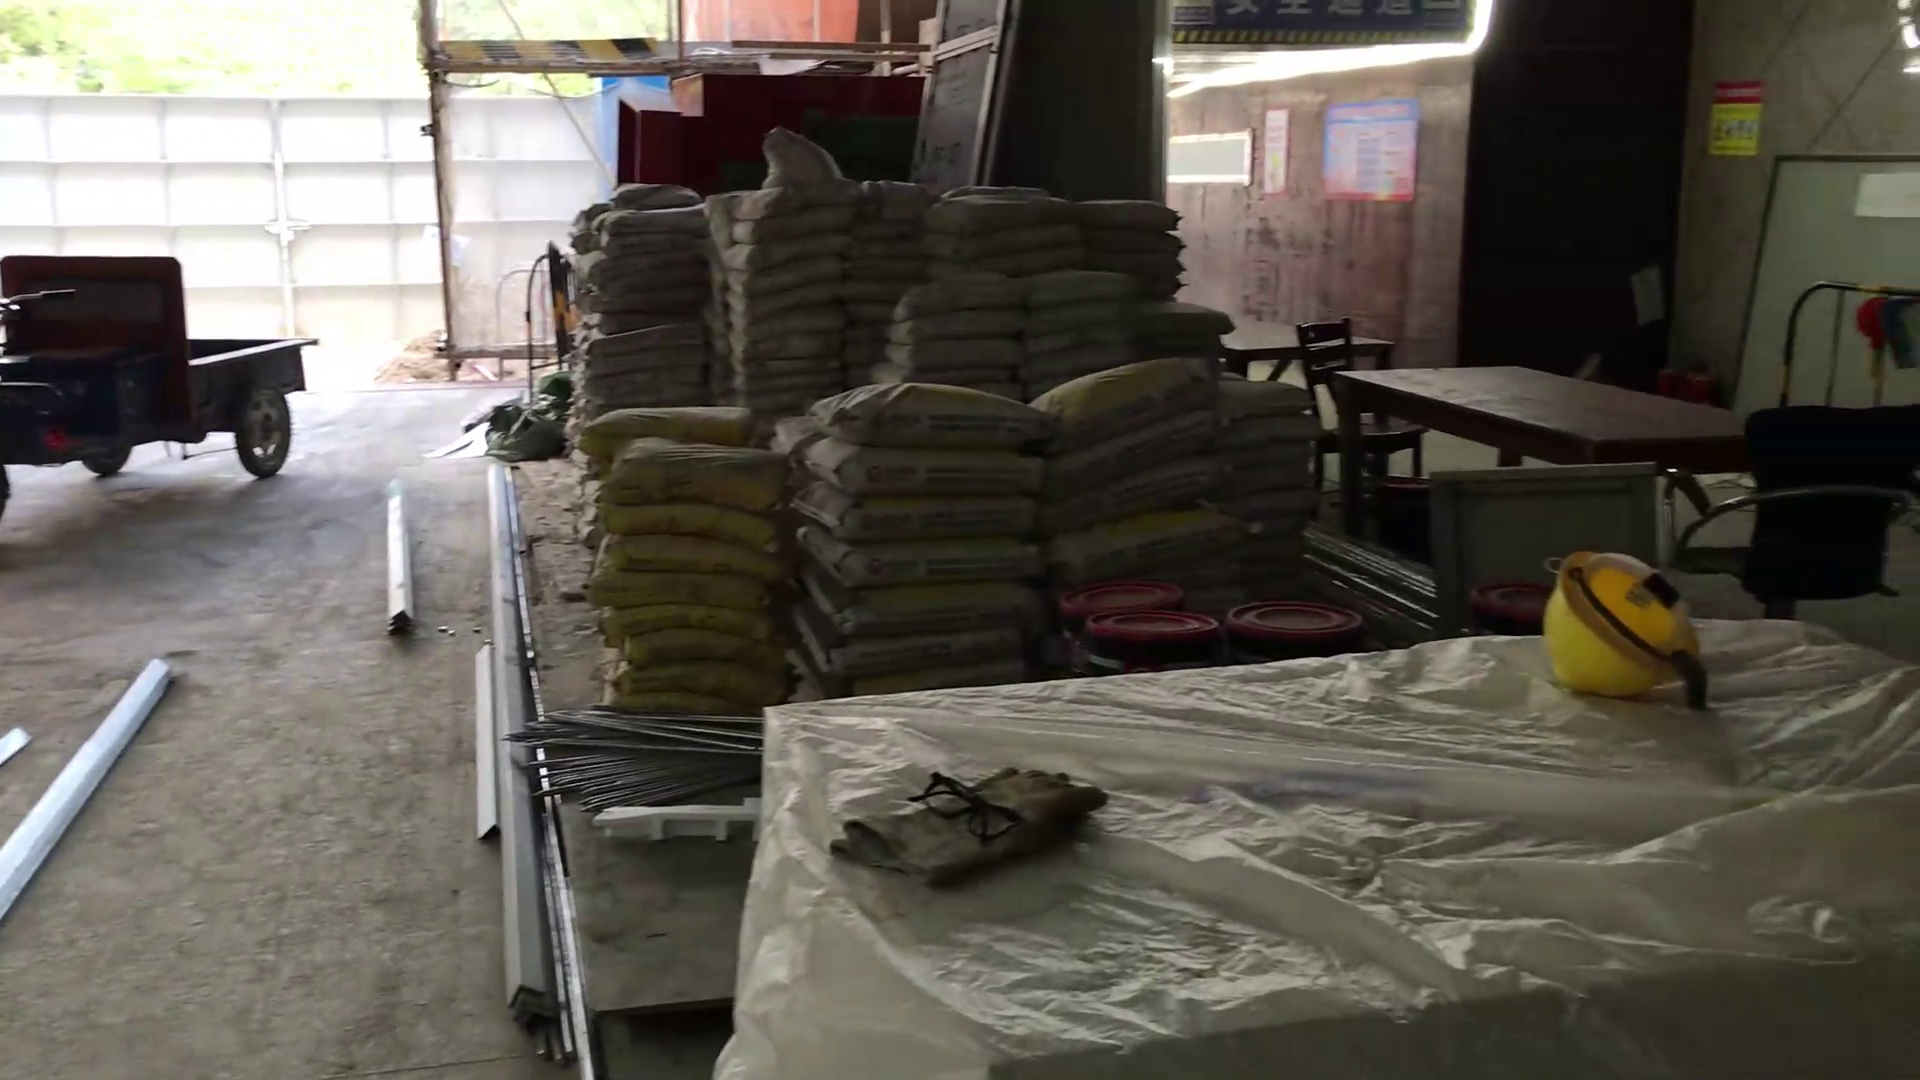helmet: (1543, 538, 1716, 705)
slogan: (1709, 75, 1768, 153)
